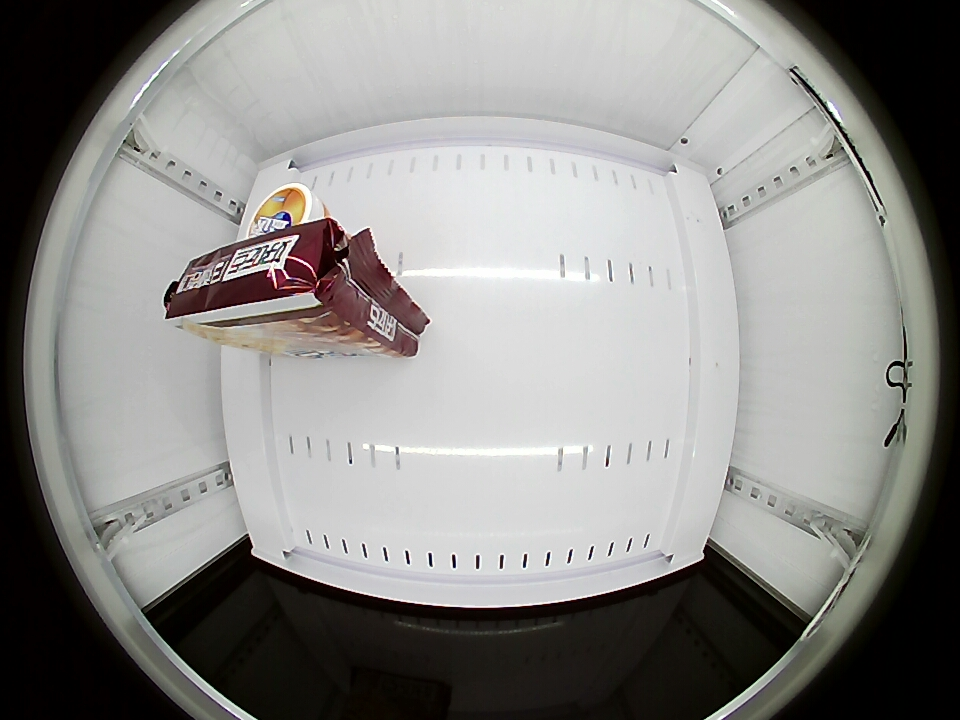haochidian: (162, 224, 359, 338)
